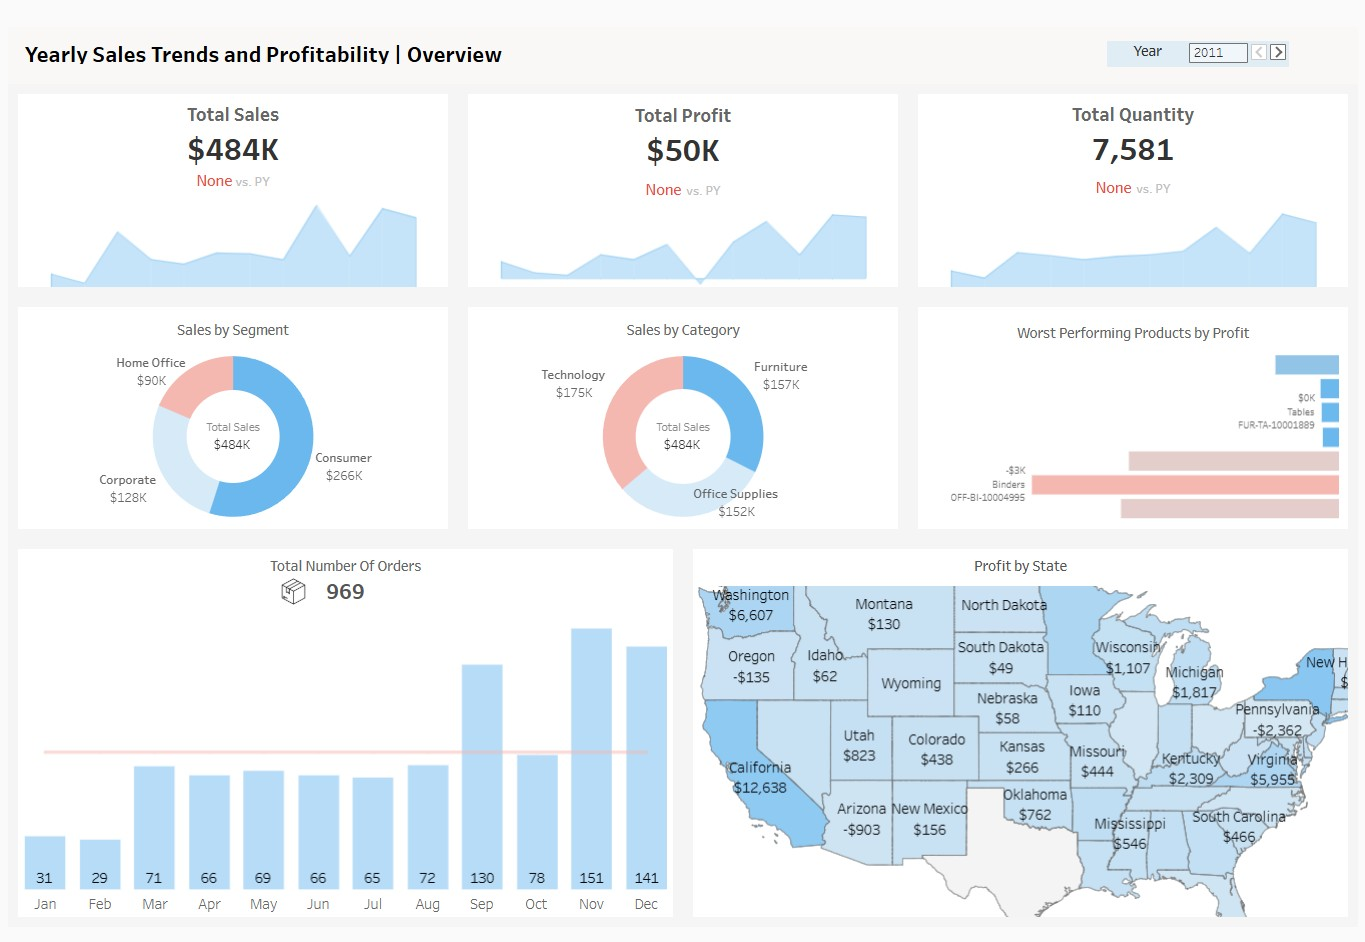

Layout of this report page (visuals, bound fields, positions):
{"tool":"tableau","page":{"name":"superstoreDashboard ","canvas":[1200,800],"ordinal":0},"visuals":[{"type":"text","box":[0,0,1200,51]},{"type":"parameter","param":"[Parameters].[Parameter 1]","box":[977,15,162,23]},{"type":"worksheet","title":"KPI sales","mark":"Area","rows":["Calculation_1014717314657075216","Calculation_1014717314657824785"],"cols":["Order Date"],"box":[0,51,400,189]},{"type":"worksheet","title":"KPI profit","mark":"Area","rows":["CY Sales (copy)_1014717314991042587","PY Sales (copy)_1014717314991308828"],"cols":["Order Date"],"box":[400,51,400,189]},{"type":"worksheet","title":"KPI Quantity","mark":"Area","rows":["CY Sales (copy)_1014717315014848546","PY Sales (copy)_1014717315015893027"],"cols":["Order Date"],"box":[800,51,400,189]},{"type":"worksheet","title":"sales by segment2","mark":"Pie","cols":["Calculation_1014717314451075085","Calculation_1014717314451075085"],"box":[0,240,400,214.7]},{"type":"worksheet","title":"sales by category","mark":"Pie","cols":["Calculation_1014717314451075085","Calculation_1014717314451075085"],"box":[400,240,400,214.7]},{"type":"worksheet","title":"negative products (2)","mark":"Automatic","rows":["Product Name"],"cols":["CY Sales (copy)_1014717314991042587"],"box":[800,240,400,214.7]},{"type":"worksheet","title":"test (2)","mark":"Automatic","rows":["Calculation_1014717315339743278","Calculation_1014717315339956271"],"cols":["Order Date"],"box":[0,454.7,600,345.3]},{"type":"worksheet","title":"top 5 states","mark":"Automatic","box":[600,454.7,600,345.3]},{"type":"image","param":"D:/Data Analytics/Tableau/Icons/icons8-logistics-100.png","box":[238,489,37,36]}]}

Visuals, with their boxes on the page's 1200x800 design canvas (x1, y1, x2, y2). These are canvas units, not pixel positions in the 1365x942 screenshot, which may show the page scaled, cropped or inside an application window:
text: crop(0, 0, 1200, 51)
parameter: crop(977, 15, 1139, 38)
"KPI sales" worksheet (Area marks): crop(0, 51, 400, 240)
"KPI profit" worksheet (Area marks): crop(400, 51, 800, 240)
"KPI Quantity" worksheet (Area marks): crop(800, 51, 1200, 240)
"sales by segment2" worksheet (Pie marks): crop(0, 240, 400, 455)
"sales by category" worksheet (Pie marks): crop(400, 240, 800, 455)
"negative products (2)" worksheet: crop(800, 240, 1200, 455)
"test (2)" worksheet: crop(0, 455, 600, 800)
"top 5 states" worksheet: crop(600, 455, 1200, 800)
image: crop(238, 489, 275, 525)
